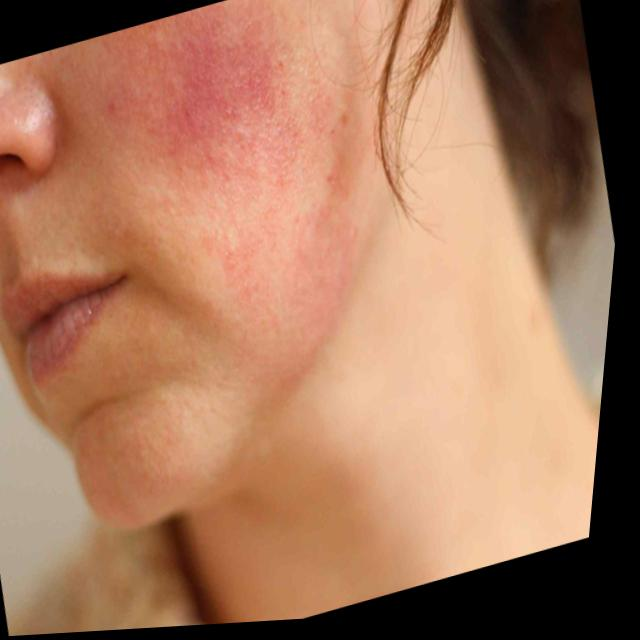skinredness: (123, 0, 321, 204)
